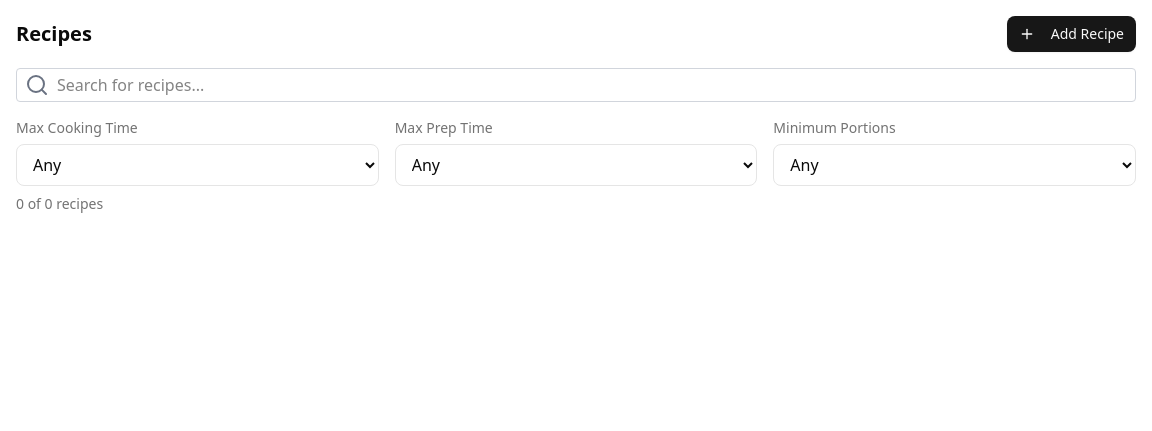
Test case: RecipeList Filters › filters recipes by cooking time
Select "Under 15 min" in the dropdown labelled "Max Cooking Time" at (197, 165), box [16,144,379,186]
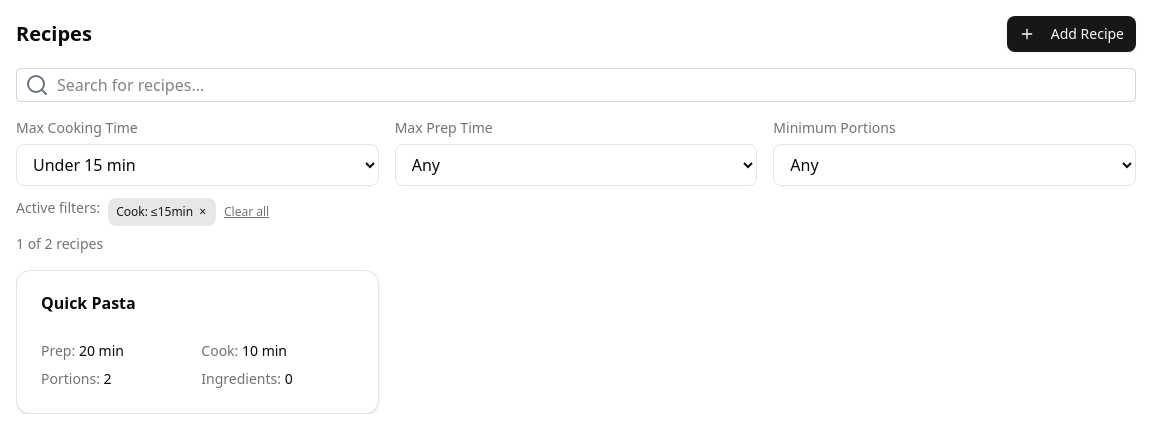
Expected: the text "Quick Pasta" is shown, [41,292,136,314]
